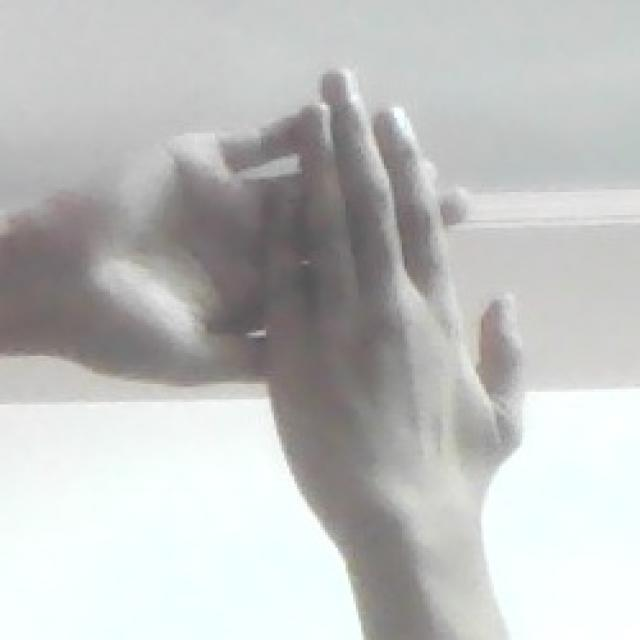Alphabet-H: (73, 62, 534, 568)
